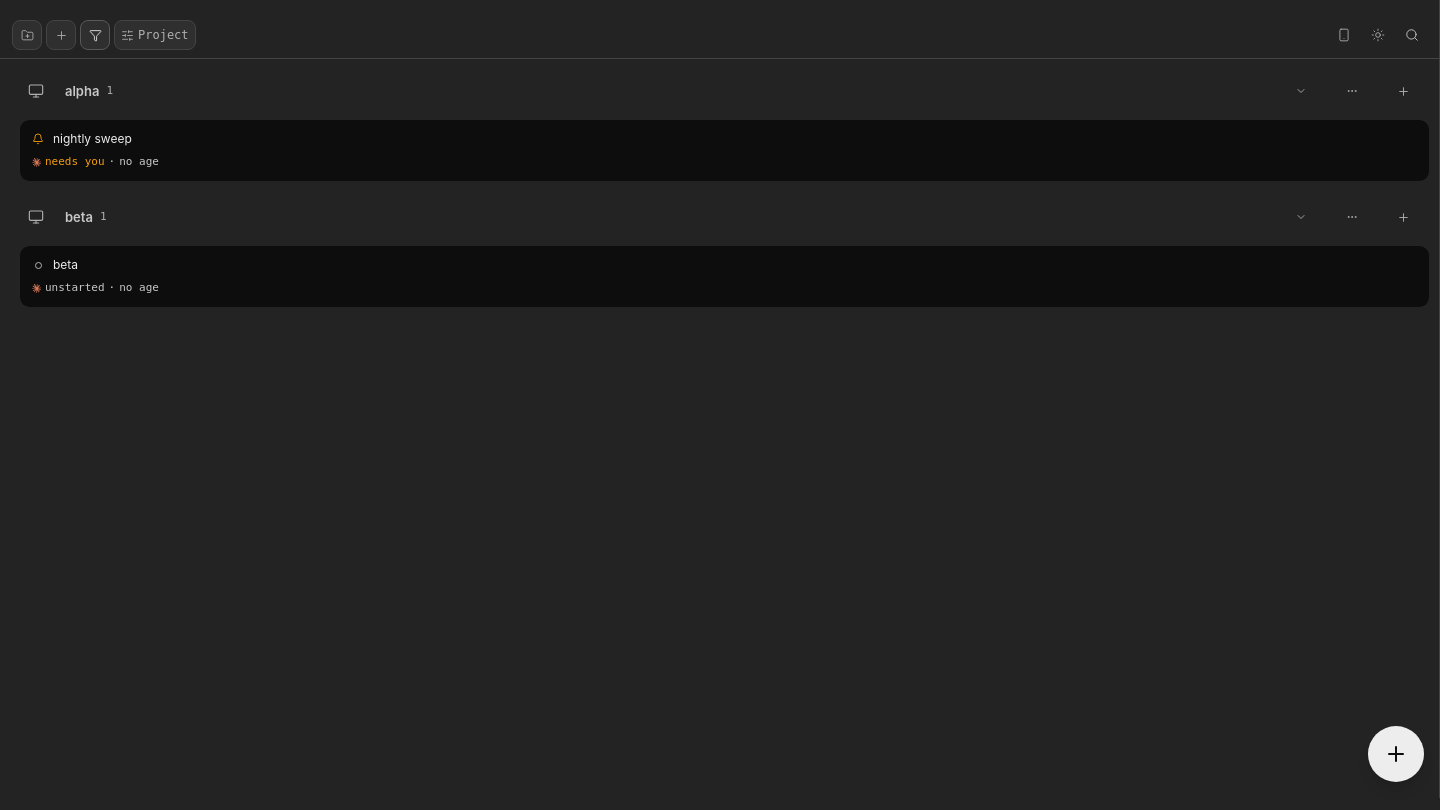
Scenario: the phone list screen’s floating + › names a pane-only project as such, and a live one not at all
Click the button named "new session" at (1396, 754), box [1368,726,1424,782]
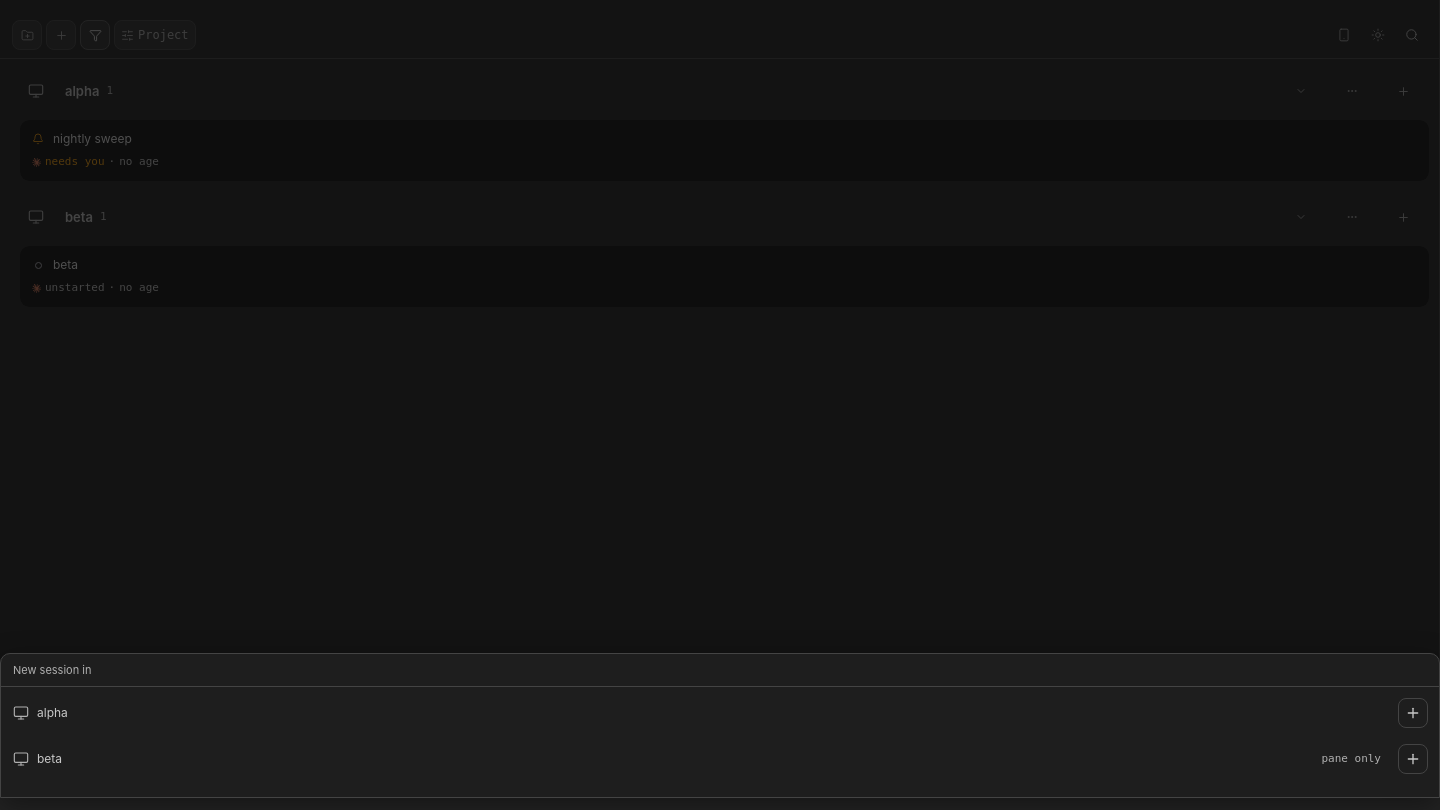
Check: the text "pane only" is shown, box [1321,751,1381,767]
